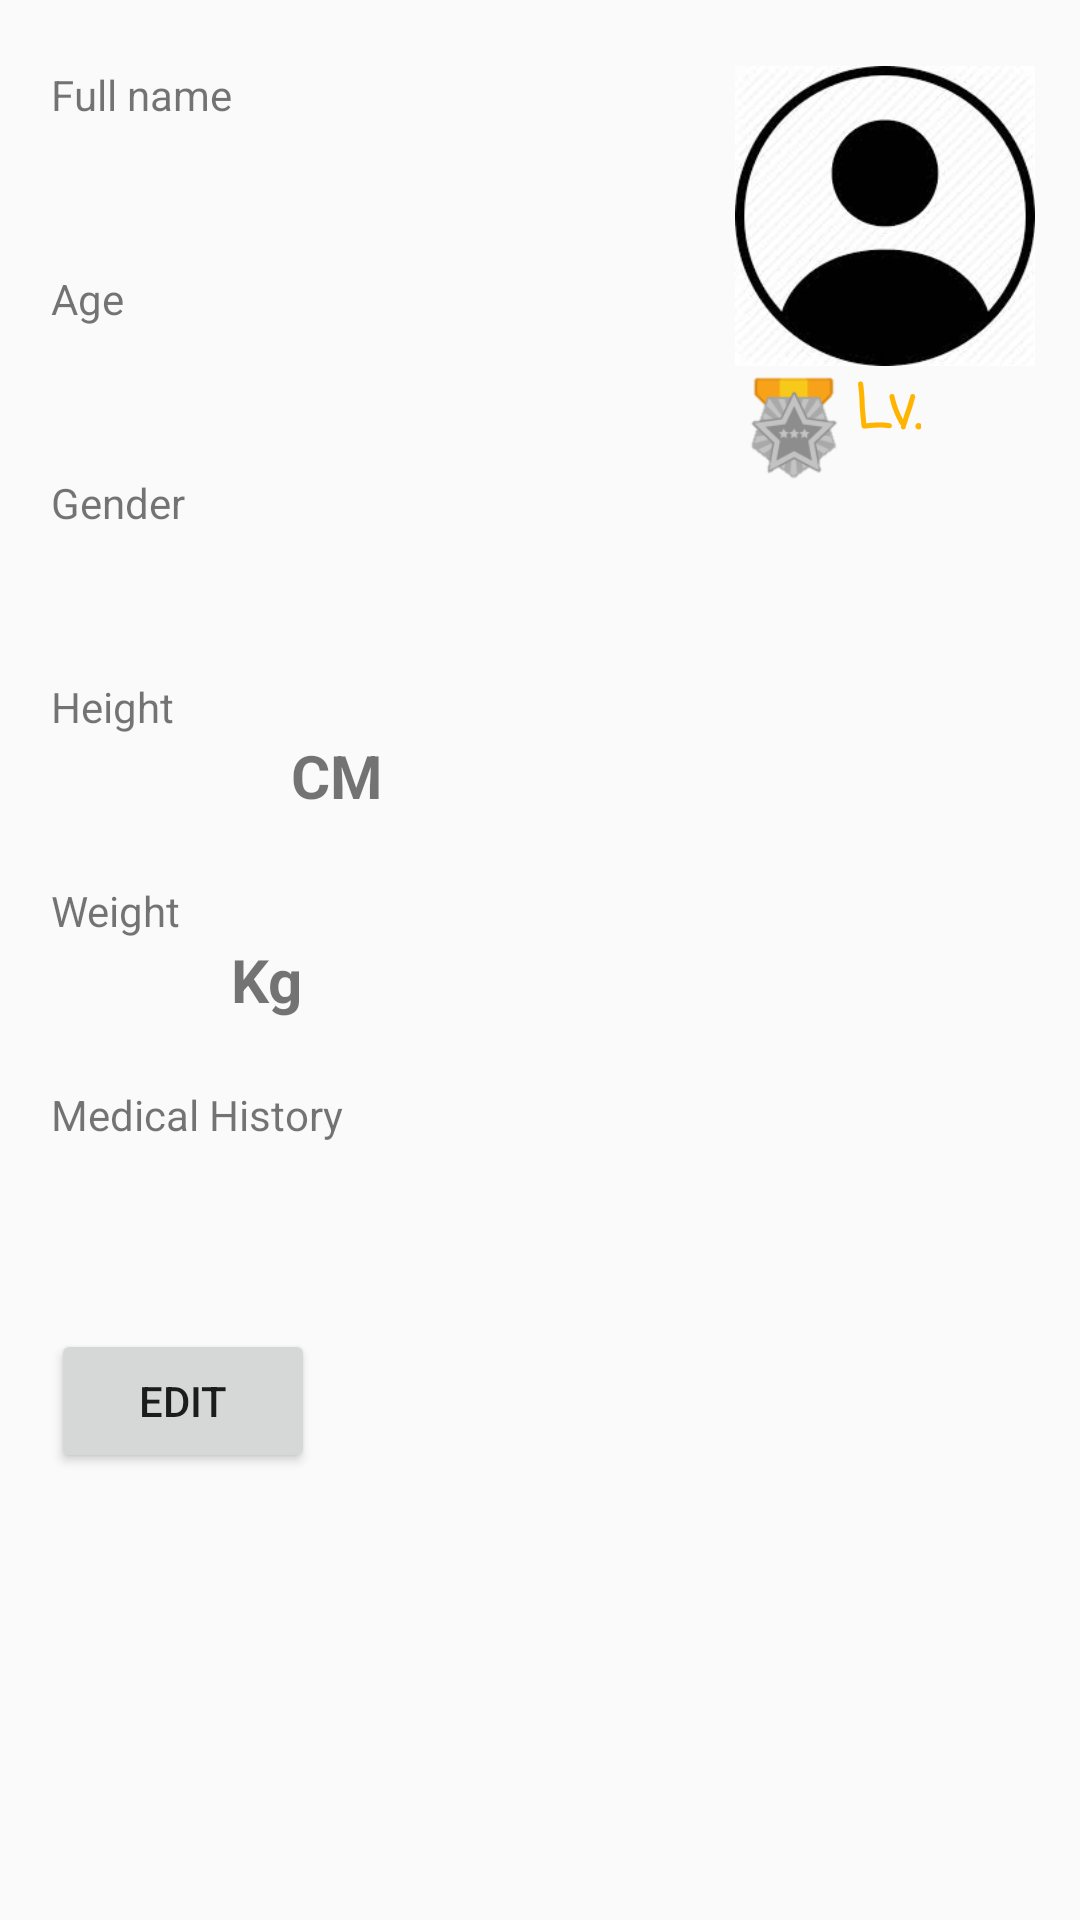

Named icons in this screenshot (1080 × 1920) and their centers, point (x, y):
portrait: point (885, 216)
